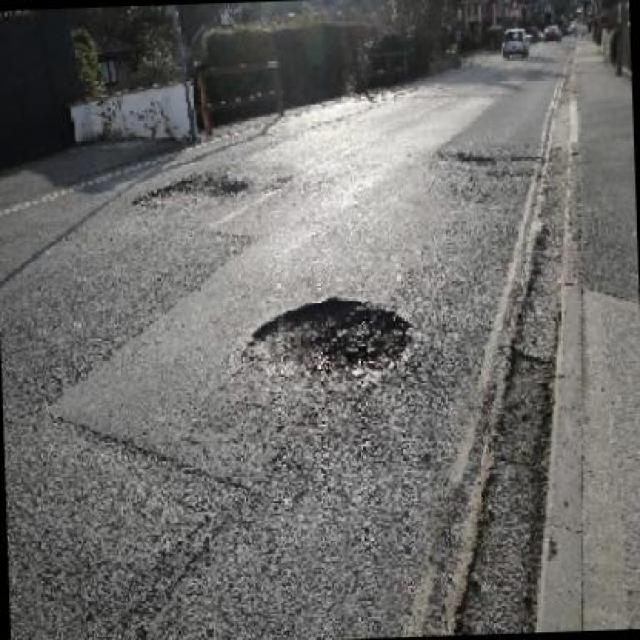pothole1: (237, 289, 418, 394), (128, 168, 248, 212)
